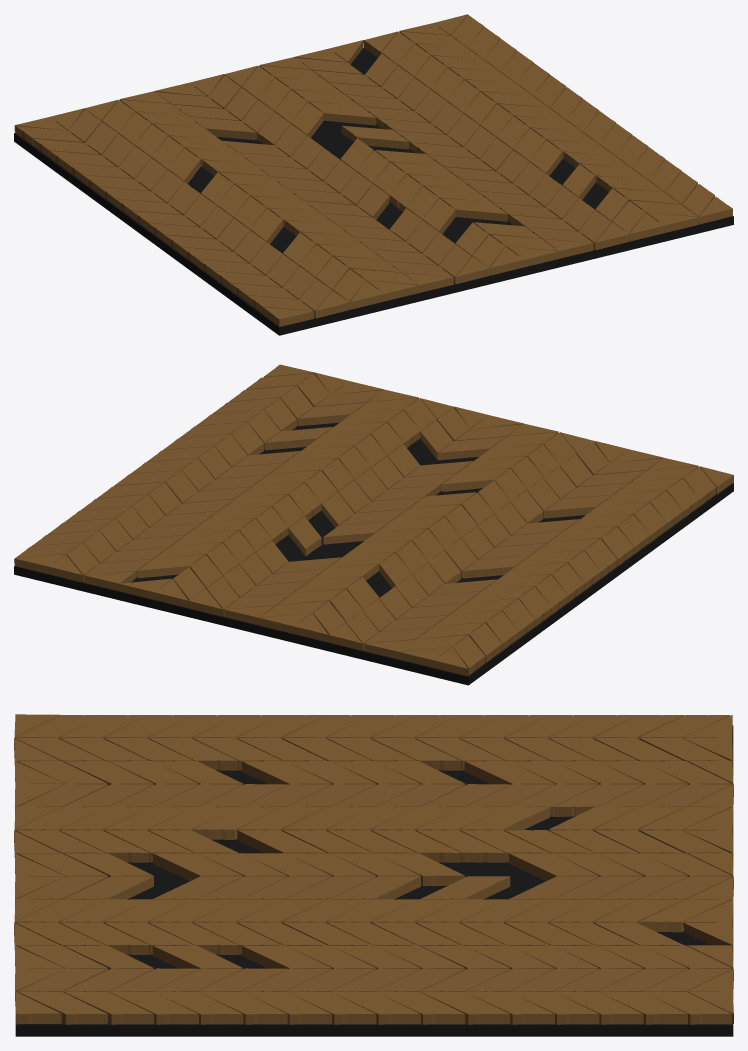
Rendered from floor_tier6.fbx.
3 views of the same model, one above another, from view 1: azimuth 30°, elevation 25°; view 2: azimuth 150°, elevation 25°; view 3: azimuth 270°, elevation 25° (orthographic). The views are drawn at different scales.
Parts seen in each view (by area): view 1: Cube, Cube.103, Cube.115, Cube.099, Cube.086, Cube.029, Cube.012, Cube.013, Cube.027, Cube.010, Cube.004, Cube.006 (+184 smaller); view 2: Cube, Cube.149, Cube.068, Cube.104, Cube.174, Cube.053, Cube.118, Cube.178, Cube.043, Cube.103, Cube.027, Cube.119 (+184 smaller); view 3: Cube, Cube.196, Cube.195, Cube.187, Cube.194, Cube.183, Cube.192, Cube.186, Cube.190, Cube.189, Cube.184, Cube.193 (+197 smaller).
Part boxes in pixels (bbox=[...]): Cube: bbox=[14, 48, 733, 335]; Cube.103: bbox=[341, 125, 409, 149]; Cube.115: bbox=[440, 198, 507, 221]; Cube.099: bbox=[309, 101, 376, 125]; Cube.086: bbox=[189, 116, 256, 140]; Cube.029: bbox=[16, 126, 83, 145]; Cube.012: bbox=[246, 295, 314, 318]; Cube.013: bbox=[148, 223, 214, 241]; Cube.027: bbox=[33, 138, 100, 157]; Cube.010: bbox=[164, 235, 231, 253]; Cube.004: bbox=[214, 271, 281, 289]; Cube.006: bbox=[197, 259, 264, 277]; Cube: bbox=[14, 422, 733, 685]; Cube.149: bbox=[137, 554, 204, 578]; Cube.068: bbox=[442, 468, 509, 491]; Cube.104: bbox=[323, 521, 390, 544]; Cube.174: bbox=[265, 427, 332, 450]; Cube.053: bbox=[545, 495, 612, 518]; Cube.118: bbox=[438, 437, 505, 460]; Cube.178: bbox=[298, 402, 365, 426]; Cube.043: bbox=[463, 555, 530, 578]; Cube.103: bbox=[288, 516, 321, 556]; Cube.027: bbox=[469, 623, 502, 662]; Cube.119: bbox=[420, 420, 453, 459]; Cube: bbox=[15, 725, 733, 1036]; Cube.196: bbox=[18, 991, 107, 1024]; Cube.195: bbox=[63, 991, 153, 1024]; Cube.187: bbox=[420, 991, 510, 1024]; Cube.194: bbox=[109, 991, 198, 1024]; Cube.183: bbox=[598, 991, 687, 1024]; Cube.192: bbox=[198, 991, 287, 1024]; Cube.186: bbox=[465, 991, 554, 1024]; Cube.190: bbox=[286, 991, 376, 1024]; Cube.189: bbox=[331, 991, 420, 1024]; Cube.184: bbox=[554, 991, 643, 1024]; Cube.193: bbox=[153, 991, 243, 1024].
Bounding box in the file's own units: 654 × 22.52 × 664.
